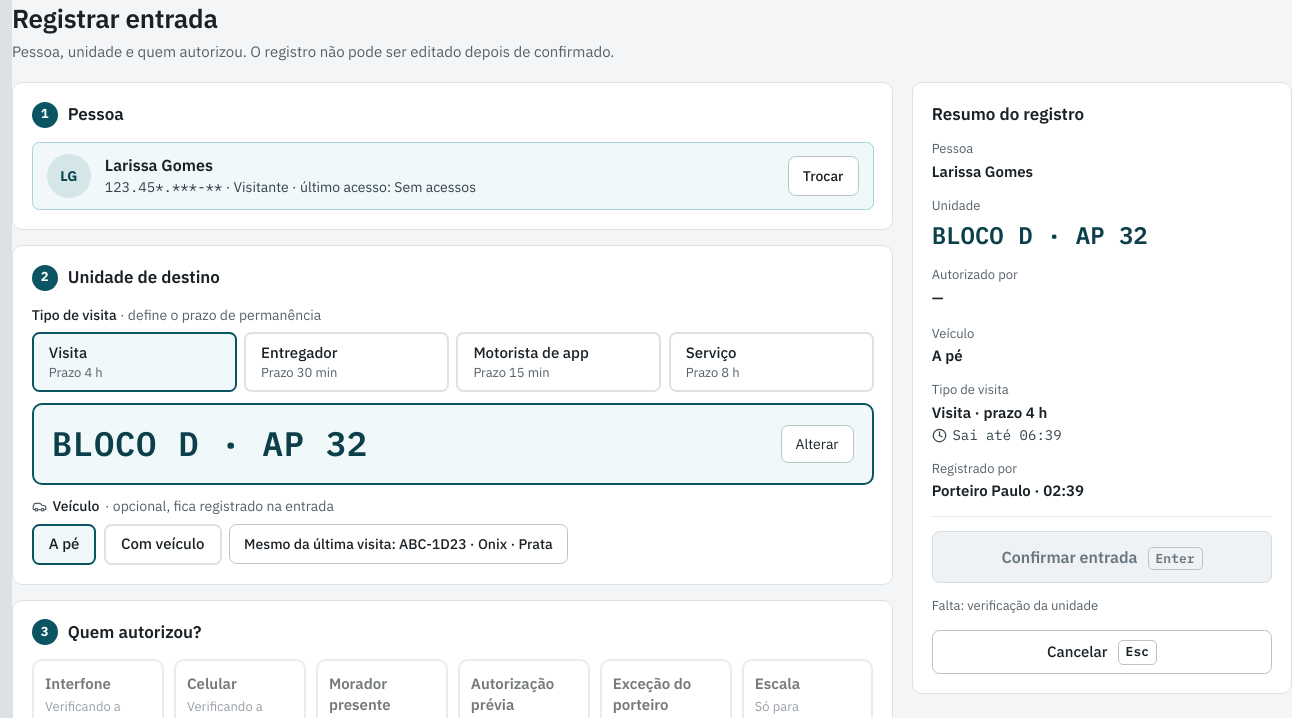
Test: EntradaPage: veículo › consulta o último veículo da pessoa escolhida e oferece repetir; o resumo mostra o veículo
Expected: the element "Resumo do registro" shows "A pé", [932, 346, 963, 365]
Click the button "Mesmo da última visita: ABC-1D23 · Onix · Prata" at (398, 544), box [229, 524, 568, 564]
(page scrolled)
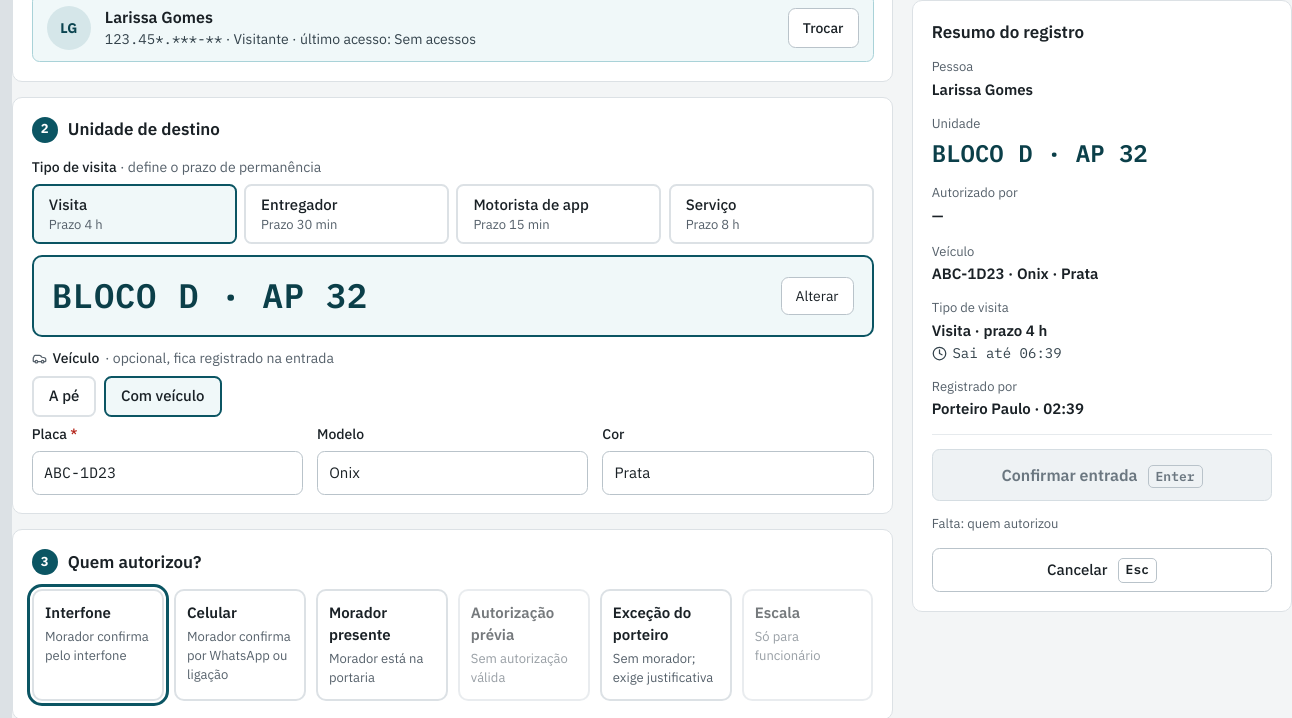
Expected: the element "Resumo do registro" shows "ABC-1D23 · Onix · Prata", [932, 264, 1099, 283]
